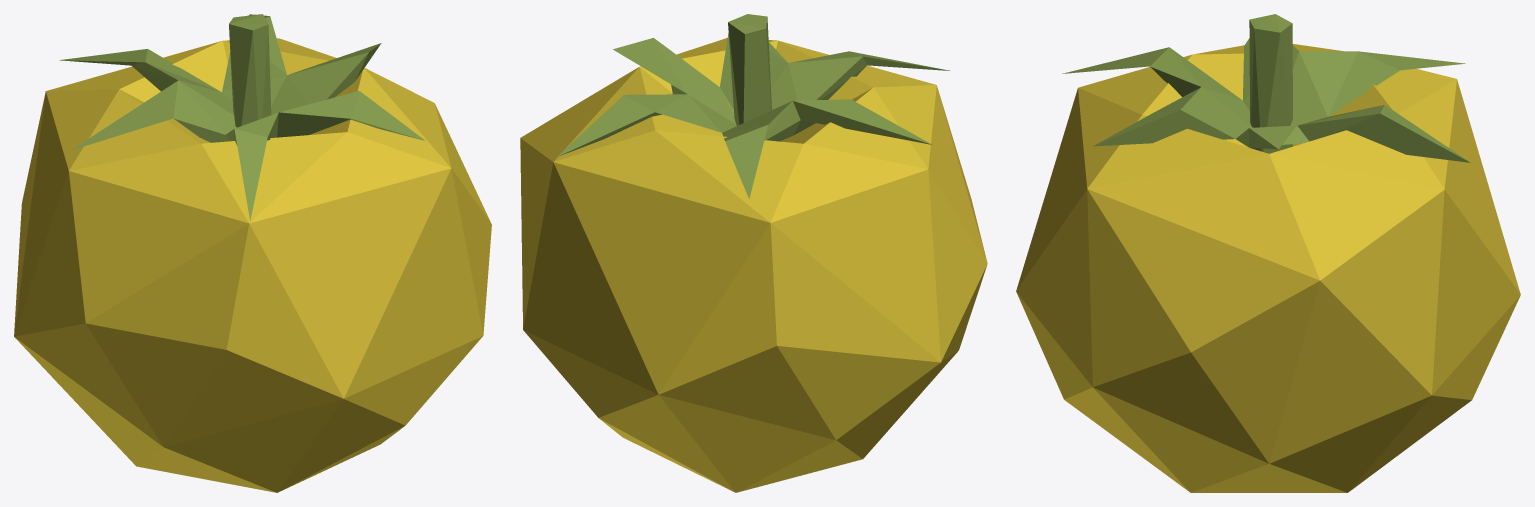
Rendered from Tomato_02.fbx.
3 views of the same model, side by side, from view 1: azimuth 30°, elevation 25°; view 2: azimuth 150°, elevation 25°; view 3: azimuth 270°, elevation 25° (orthographic). The views are drawn at different scales.
Parts seen in each view (by area): view 1: Tomato_02; view 2: Tomato_02; view 3: Tomato_02.
Part boxes in pixels (x1,y1,x2,y2): Tomato_02: (14,14,491,492); Tomato_02: (520,14,987,492); Tomato_02: (1016,14,1520,492).
Size of the model in its own units: 11.85 by 12 by 12.
